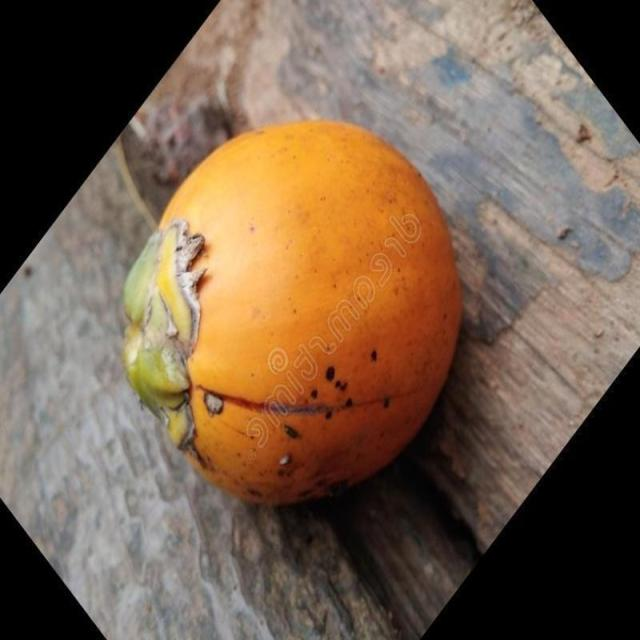good: (120, 121, 463, 509)
